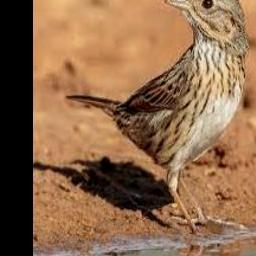Sparrow: (65, 0, 248, 231)
